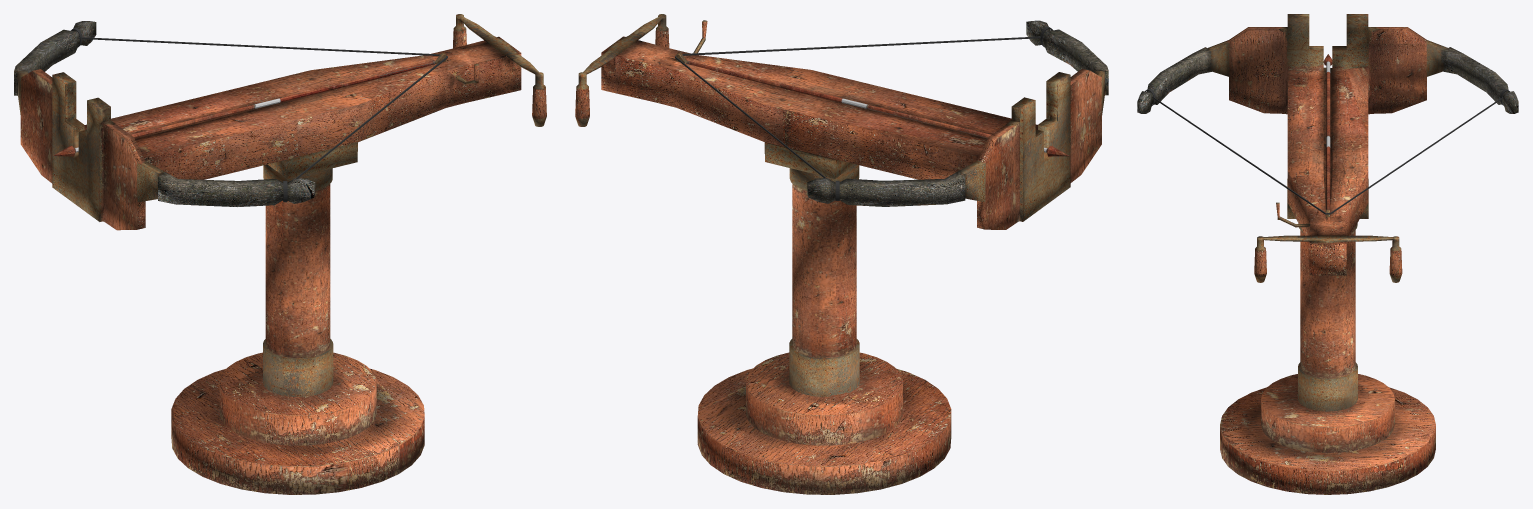
Rendered from crossbow_2.fbx.
3 views of the same model, side by side, from view 1: azimuth 30°, elevation 25°; view 2: azimuth 150°, elevation 25°; view 3: azimuth 270°, elevation 25° (orthographic). The views are drawn at different scales.
Parts seen in each view (by area): view 1: crossbow, Base, Circle, Strings; view 2: crossbow, Base, Circle, Strings; view 3: crossbow, Base, Strings, Circle.
Part boxes in pixels (x1=…): crossbow: x1=14, y1=14, x2=546, y2=230; Base: x1=171, y1=164, x2=424, y2=494; Circle: x1=53, y1=60, x2=434, y2=156; Strings: x1=78, y1=37, x2=447, y2=177; crossbow: x1=575, y1=14, x2=1108, y2=229; Base: x1=697, y1=164, x2=951, y2=494; Circle: x1=687, y1=61, x2=1069, y2=156; Strings: x1=675, y1=36, x2=1044, y2=177; crossbow: x1=1137, y1=14, x2=1518, y2=282; Base: x1=1220, y1=223, x2=1435, y2=494; Strings: x1=1152, y1=96, x2=1503, y2=214; Circle: x1=1323, y1=54, x2=1332, y2=211.
Size of the model in its own units: 400 by 337 by 339.
